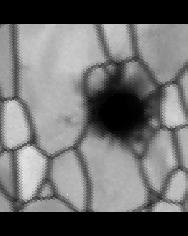good_void: (64, 51, 164, 163)
